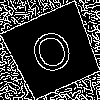O: (27, 26, 81, 85)
